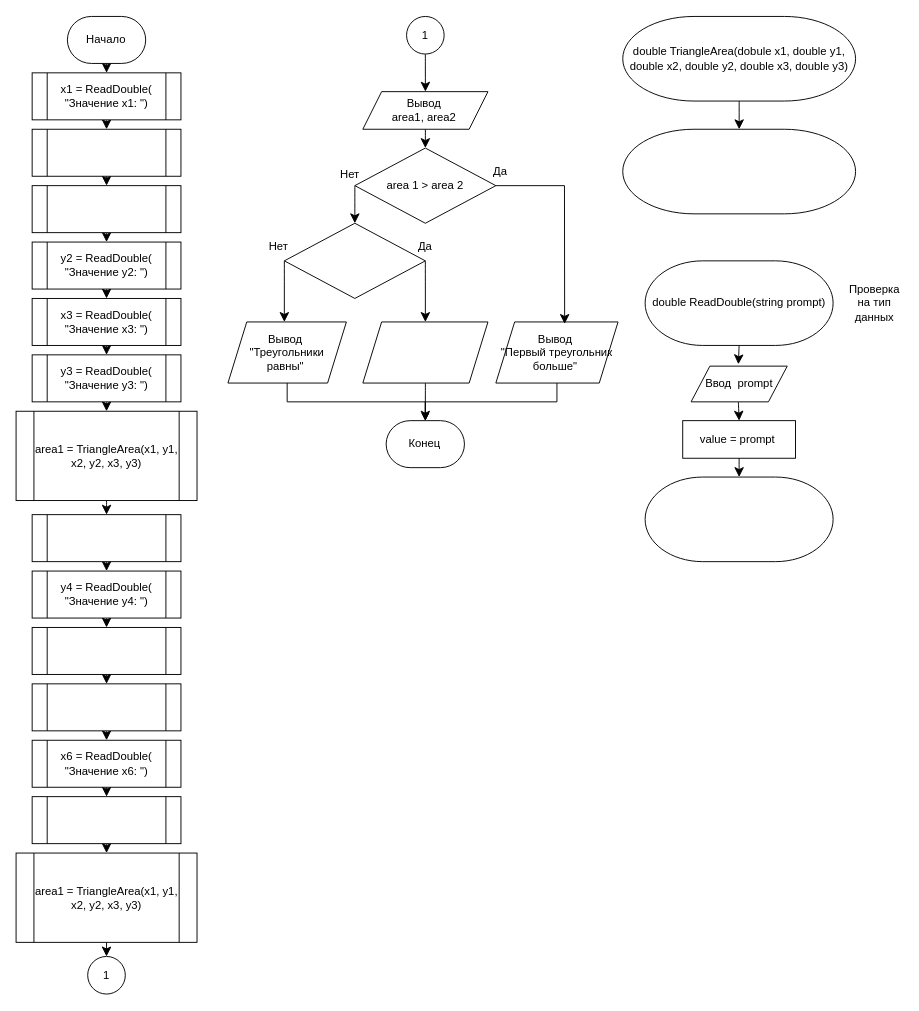
Some shapes in this 919 by 1011 pixel diagram are drawn without their labels. The box of each missing label's shape, as (x1, y1, x2, y2) in pixels:
area 2 > area 1: (283, 222, 425, 298)
return 0.5 * Abs ( x1 * (y1 - y3) + x2 * (y3 - y1) + x3 * (y1 - y2) ): (622, 128, 856, 214)
return value: (644, 476, 833, 562)
x2 = ReadDouble( " Значение x2: " ): (31, 185, 181, 233)
x4 = ReadDouble( " Значение x4: " ): (31, 514, 181, 562)
x5 = ReadDouble( " Значение x5: " ): (31, 627, 181, 674)
y1 = ReadDouble( " Значение y1: " ): (31, 128, 181, 176)
y5 = ReadDouble( " Значение y5: " ): (31, 683, 181, 731)
y6 = ReadDouble( " Значение y6: " ): (31, 796, 181, 844)
Вывод "Второй треугольник больше": (362, 321, 488, 383)
